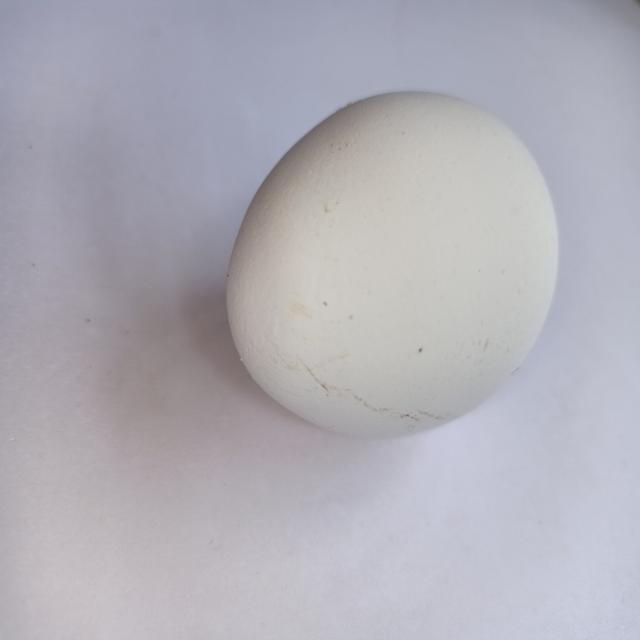Egg: (208, 71, 574, 483)
